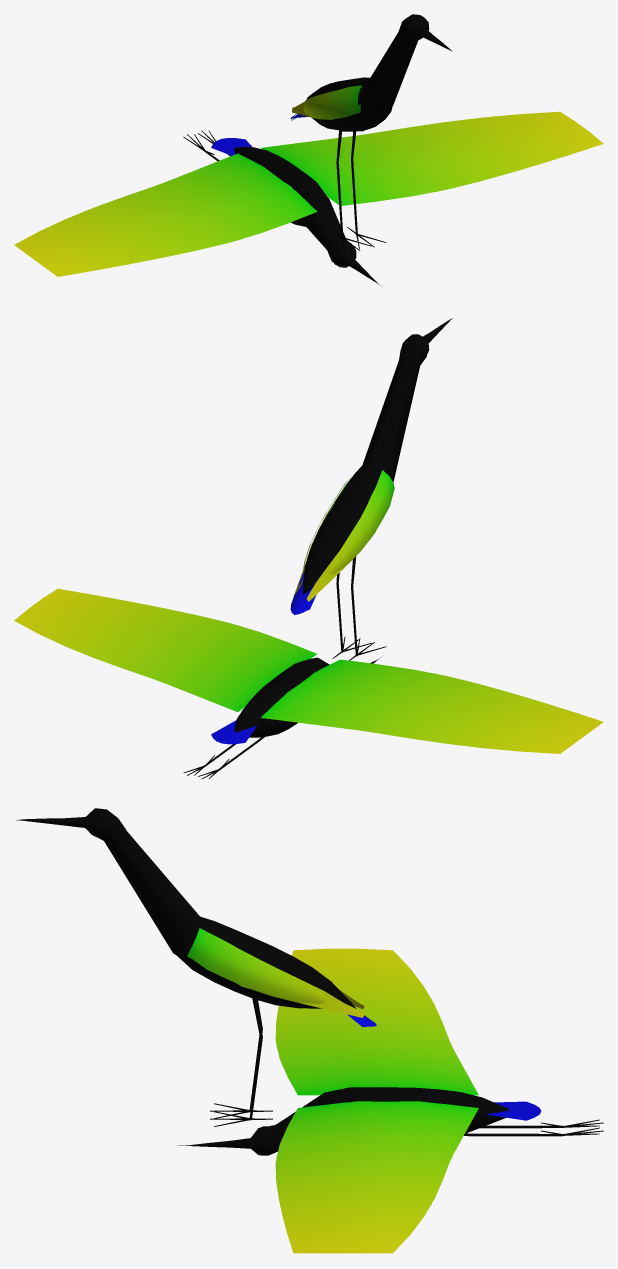
File: egret.glb
The picture shows the model from 3 angles, top to bottom: view 1: azimuth 30°, elevation 25°; view 2: azimuth 150°, elevation 25°; view 3: azimuth 270°, elevation 25°; orthographic projection. The views are drawn at different scales.
Parts seen in each view (by area): view 1: fly0, stand0, stand1, fly1; view 2: fly0, stand0, stand1; view 3: fly0, stand0, stand1, fly1.
Boxes of the visible parts, x1,y1,x2,y2 form: fly0: (14, 111, 603, 283); stand0: (290, 14, 451, 252); stand1: (291, 24, 452, 238); fly1: (18, 136, 436, 282); fly0: (14, 588, 603, 778); stand0: (290, 318, 451, 660); stand1: (293, 318, 452, 656); fly0: (187, 948, 603, 1253); stand0: (18, 808, 376, 1126); stand1: (16, 820, 376, 1120); fly1: (190, 999, 562, 1253).
Size of the model in its own units: 0.95 by 0.5048 by 0.7821.
